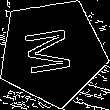M_E: (23, 26, 81, 79)
